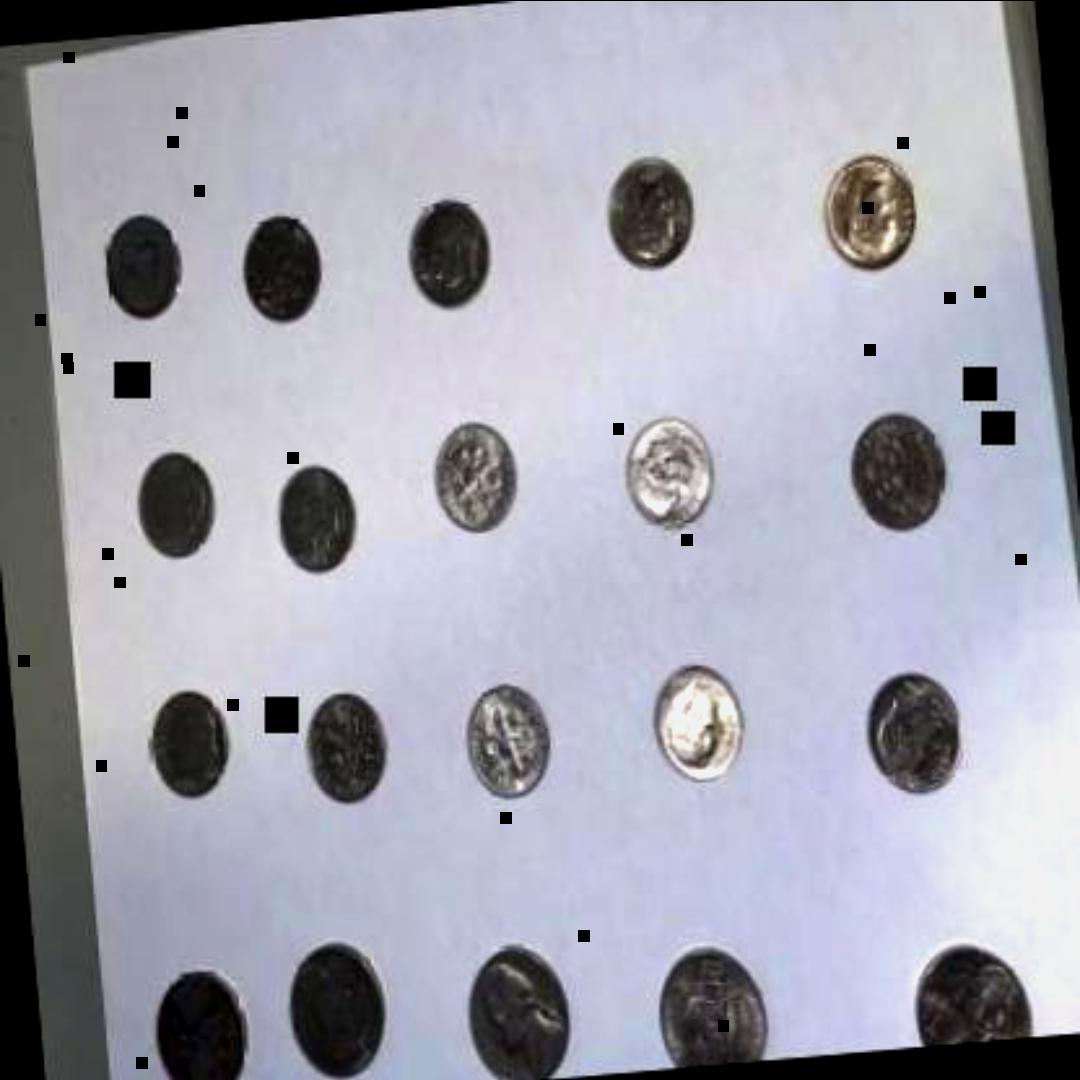Dime: (855, 670, 971, 804), (593, 157, 707, 279), (842, 410, 950, 538), (815, 154, 926, 276), (646, 659, 748, 784), (138, 685, 242, 807), (298, 691, 402, 813), (625, 414, 718, 546), (427, 419, 525, 541), (456, 684, 554, 806), (96, 202, 186, 330), (402, 195, 496, 317), (129, 448, 219, 570), (236, 215, 329, 331), (270, 463, 360, 579)
Nickel: (652, 938, 776, 1072), (460, 944, 579, 1080), (280, 940, 392, 1080), (903, 940, 1045, 1048), (145, 968, 259, 1080)
